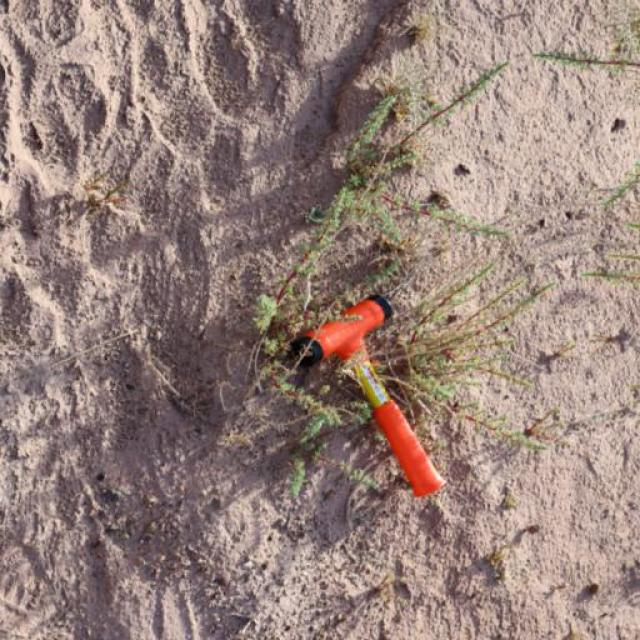mallet: (286, 292, 446, 498)
